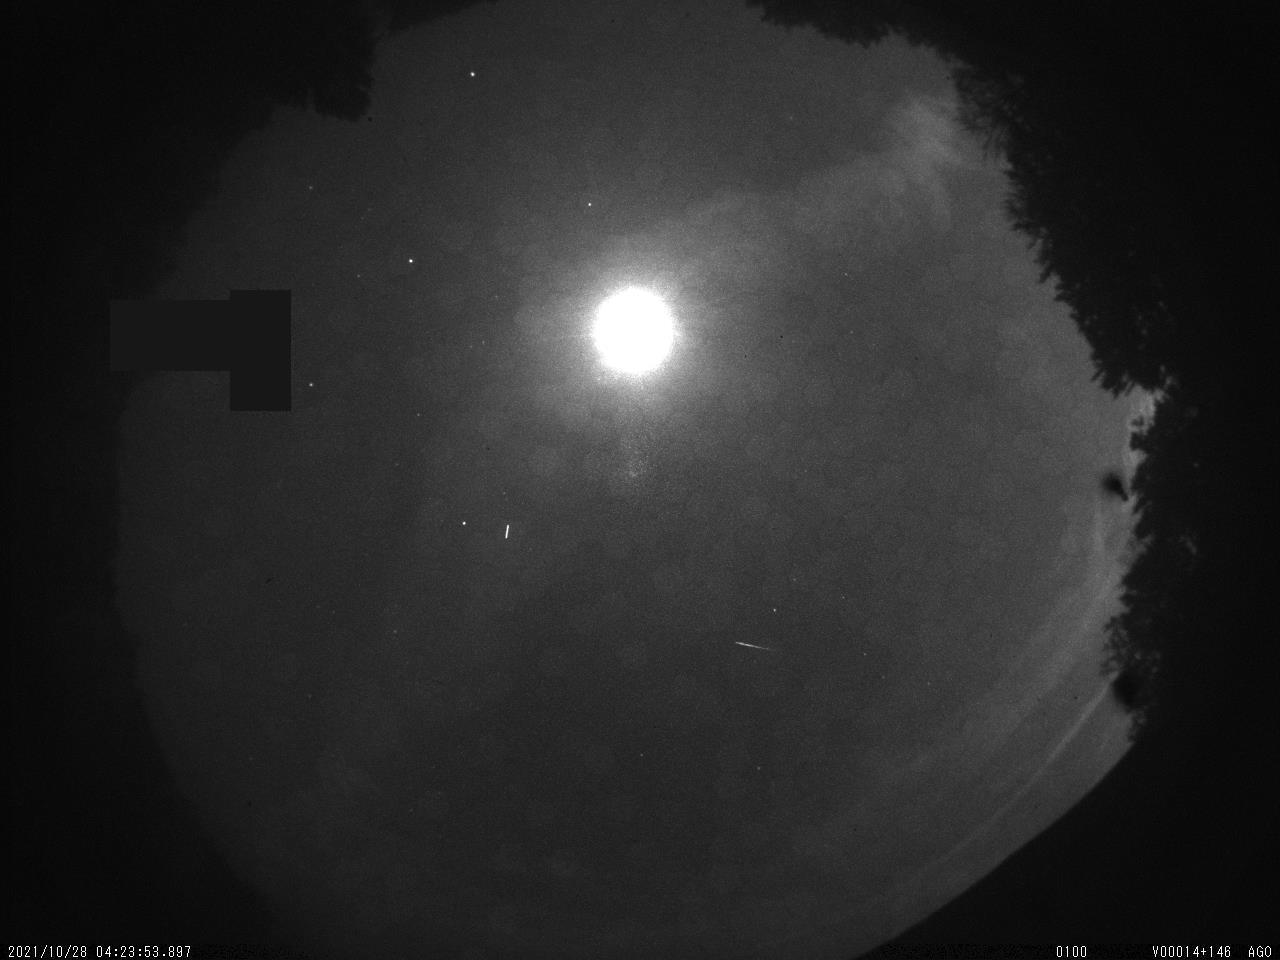meteor: (724, 633, 783, 662)
